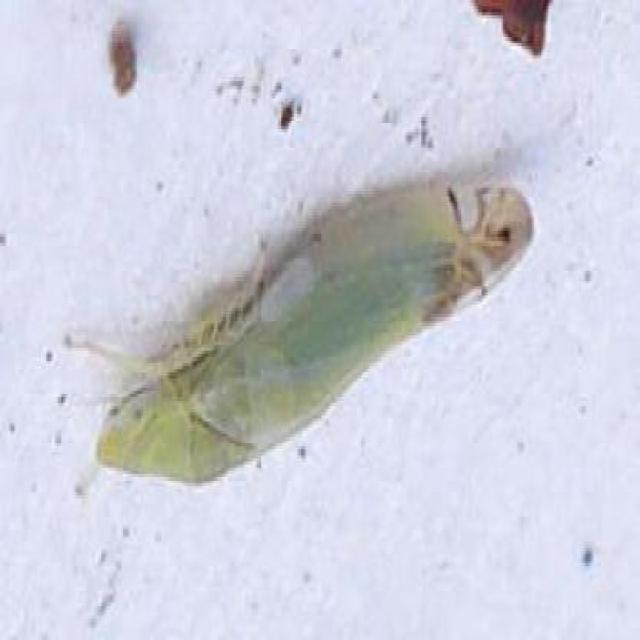green-leafhopper: (70, 186, 536, 470)
